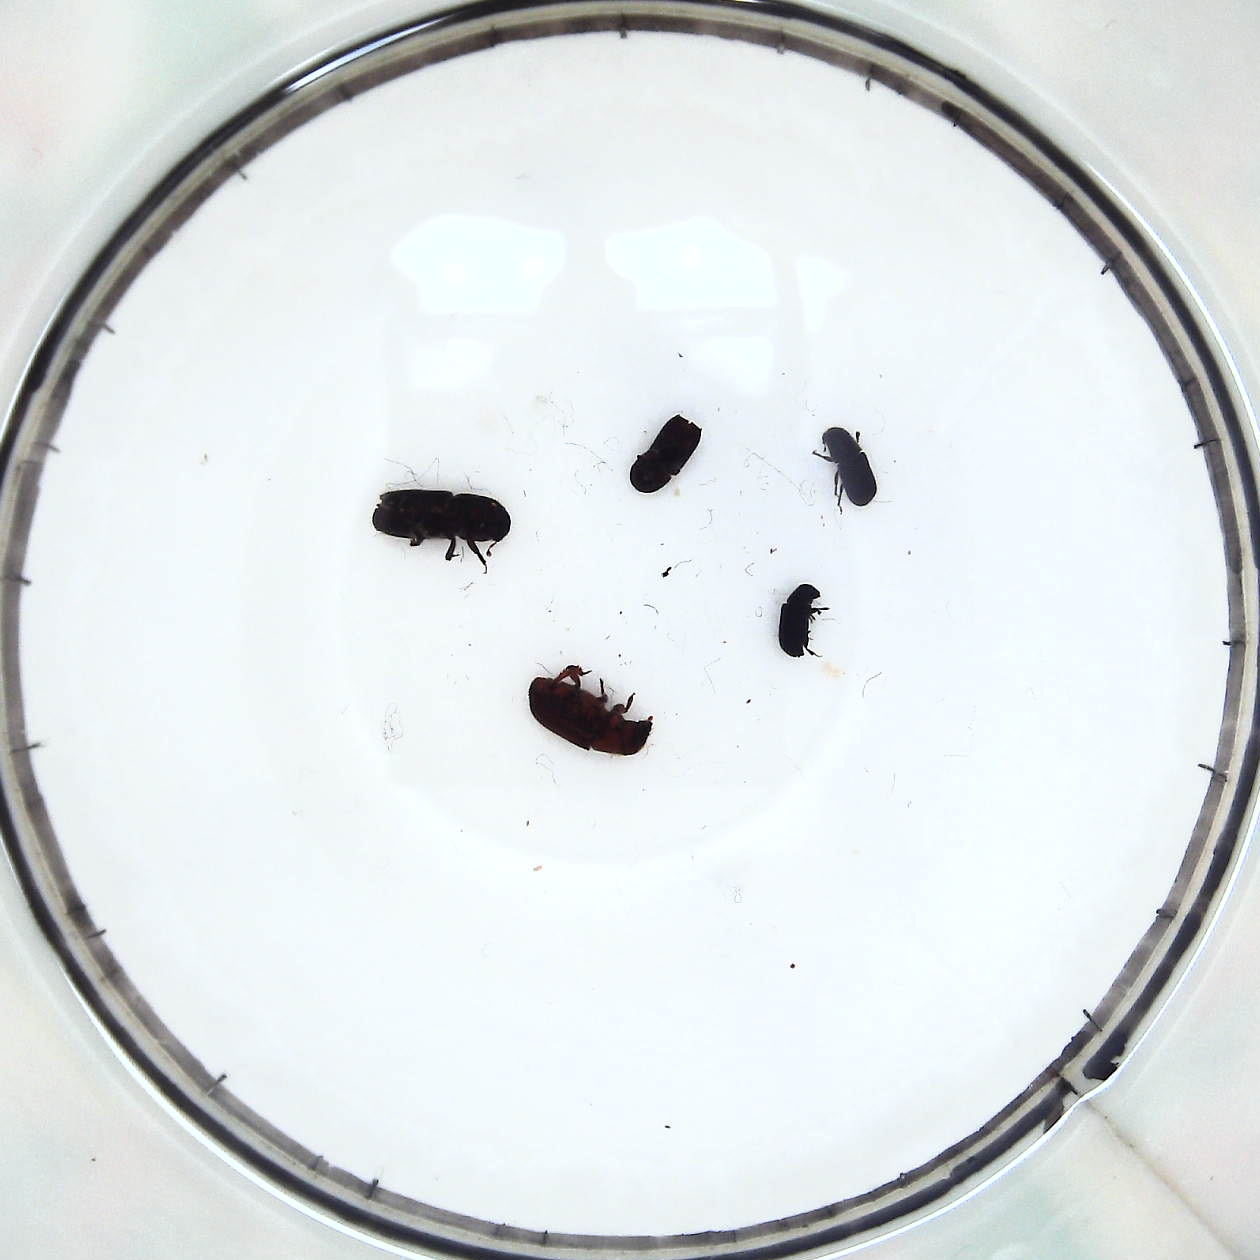Boerner: (368, 483, 513, 565)
Leconte: (532, 665, 657, 759)
Linnaeus: (623, 414, 702, 496)
armandi: (816, 426, 876, 508)
coleoptera: (779, 582, 828, 660)
